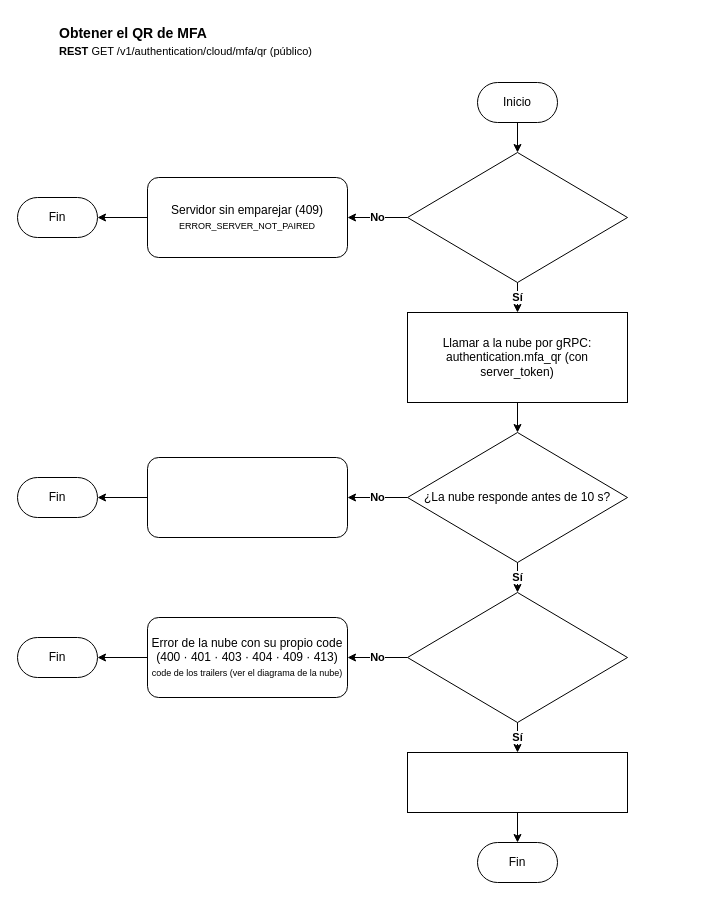
The diagram is 715 pixels wide and 900 high, and some of its shapes have lost their labels. Each missing label, with the centre of its shape:
La nube no responde (503) ERROR_CLOUD_UNAVAILABLE · ERROR_SERVER_UNLINKED: (x=247, y=497)
Responder 200 con el mensaje QR_RETRIEVED: (x=517, y=782)
¿El servidor ya se emparejó alguna vez (pairing_status distinto de unpaired)?: (x=517, y=217)
¿La nube acepta la petición?: (x=517, y=657)
